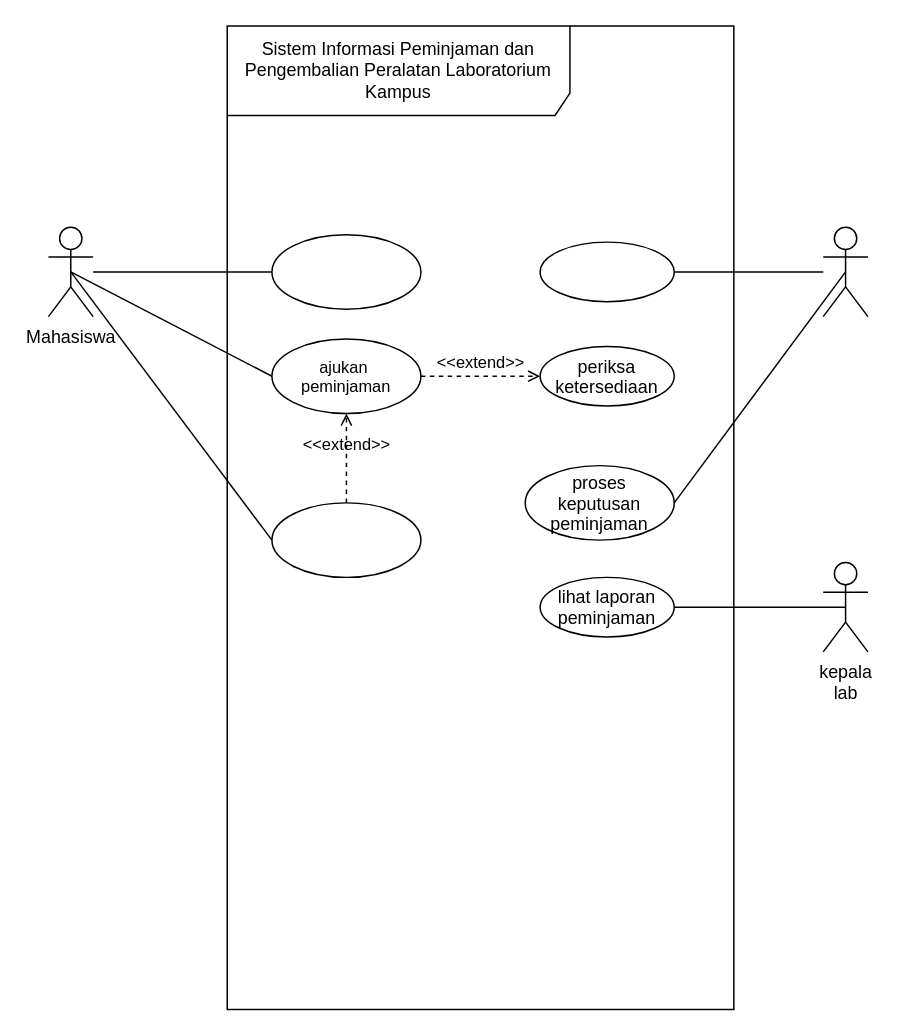
This 904x1036 diagram has some shape labels left out. The box of each missing label's shape, as (x1, y1, x2, y2) in pixels:
cetak bukti pengajuan: (270, 501, 421, 577)
kelola data peralatan: (539, 241, 674, 302)
lihat ketersedian peralatan: (270, 233, 421, 309)
petugas lab: (822, 226, 868, 317)
